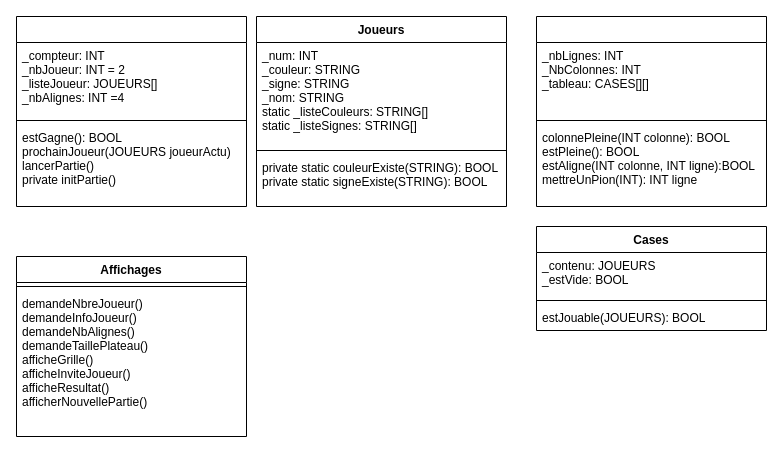
Image size: 783x453. Some labels were removed from this diagram. Here are the shapes that lost their labels. From the top down, the box of each, then its label:
(16, 16, 246, 206): Parties
(536, 16, 766, 206): Grilles
